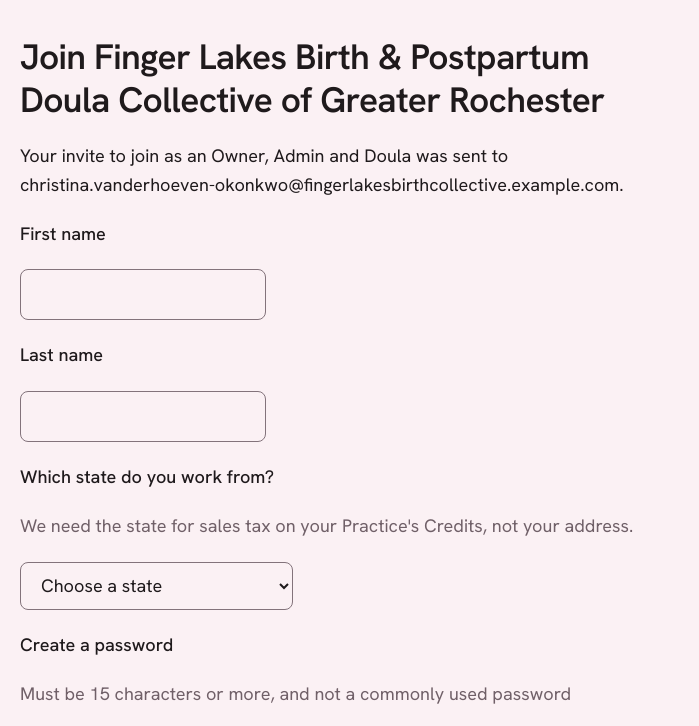
what happens after the invite is accepted (#2239) › shows the server's own words when the invite is refused, and signs out
This screenshot has width=699, height=726.
Type "Priya" into the field labelled "First name".
click(143, 295); type("Priya")  # box [20,269,266,320]
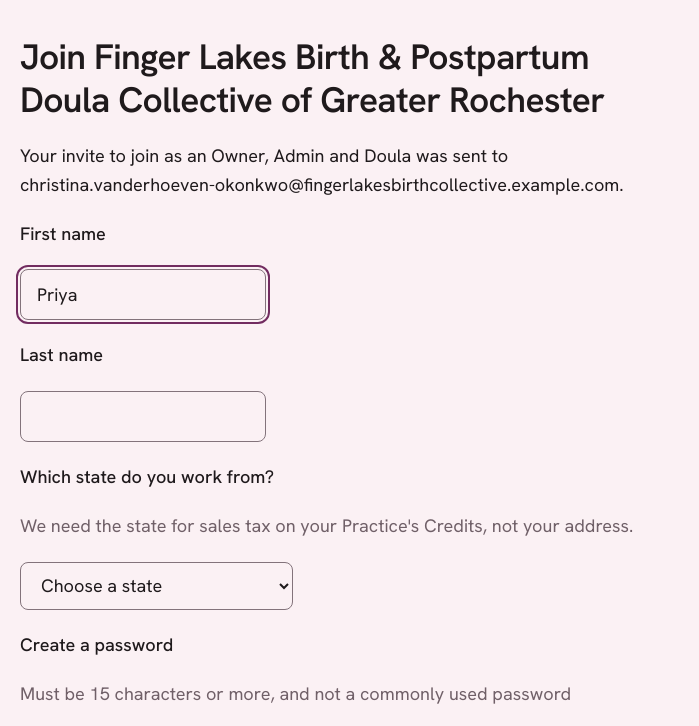
Type "Sharma" into the field labelled "Last name".
click(143, 416); type("Sharma")  # box [20,391,266,442]
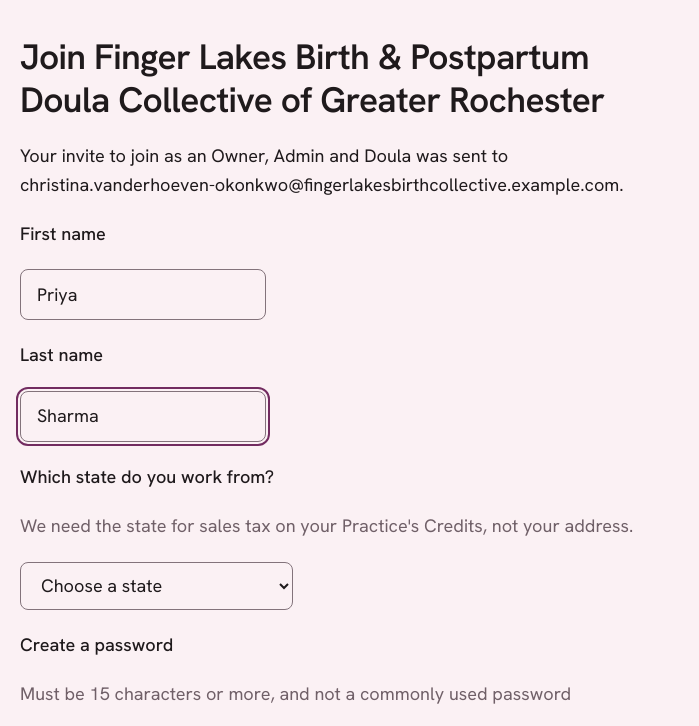
Select "New Jersey" in the dropdown labelled "Which state do you work from?" at {"x": 156, "y": 586}, box [20,562,293,610]
(page scrolled)
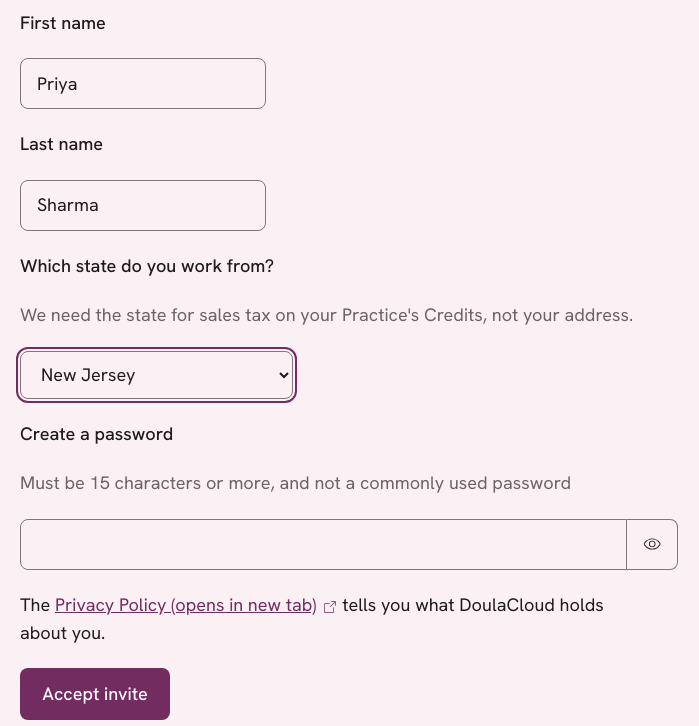
Type "correct horse battery" into the password field labelled "Create a password".
click(323, 544); type("correct horse battery")  # box [20,519,627,570]
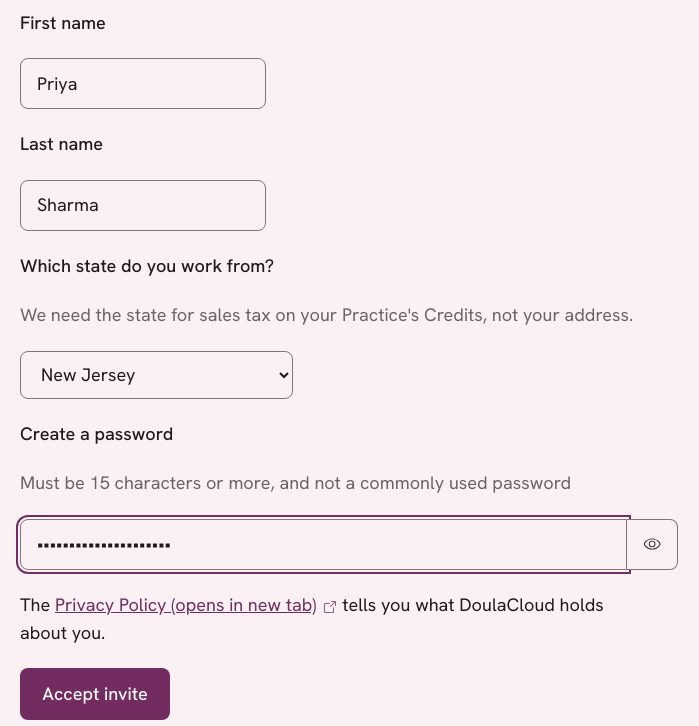
Click the button "Accept invite".
click(95, 694)  # box [20,668,170,720]
(page scrolled)
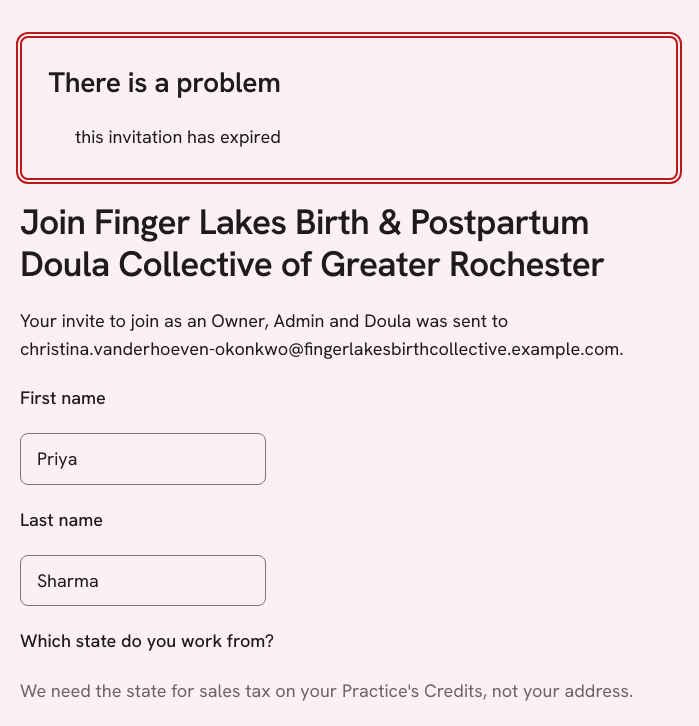
Result: the message shows "this invitation has expired" at [75,125,281,148]
